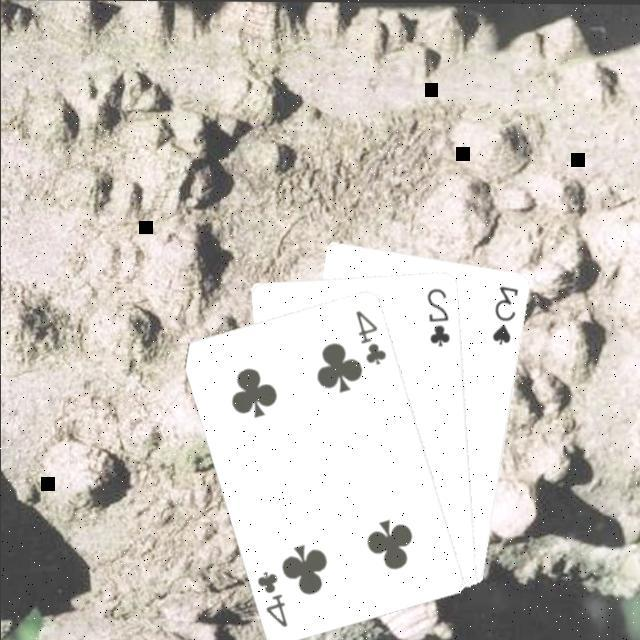2C: (423, 283, 452, 347)
3S: (488, 280, 520, 346)
4C: (252, 566, 290, 628), (351, 304, 387, 366)
